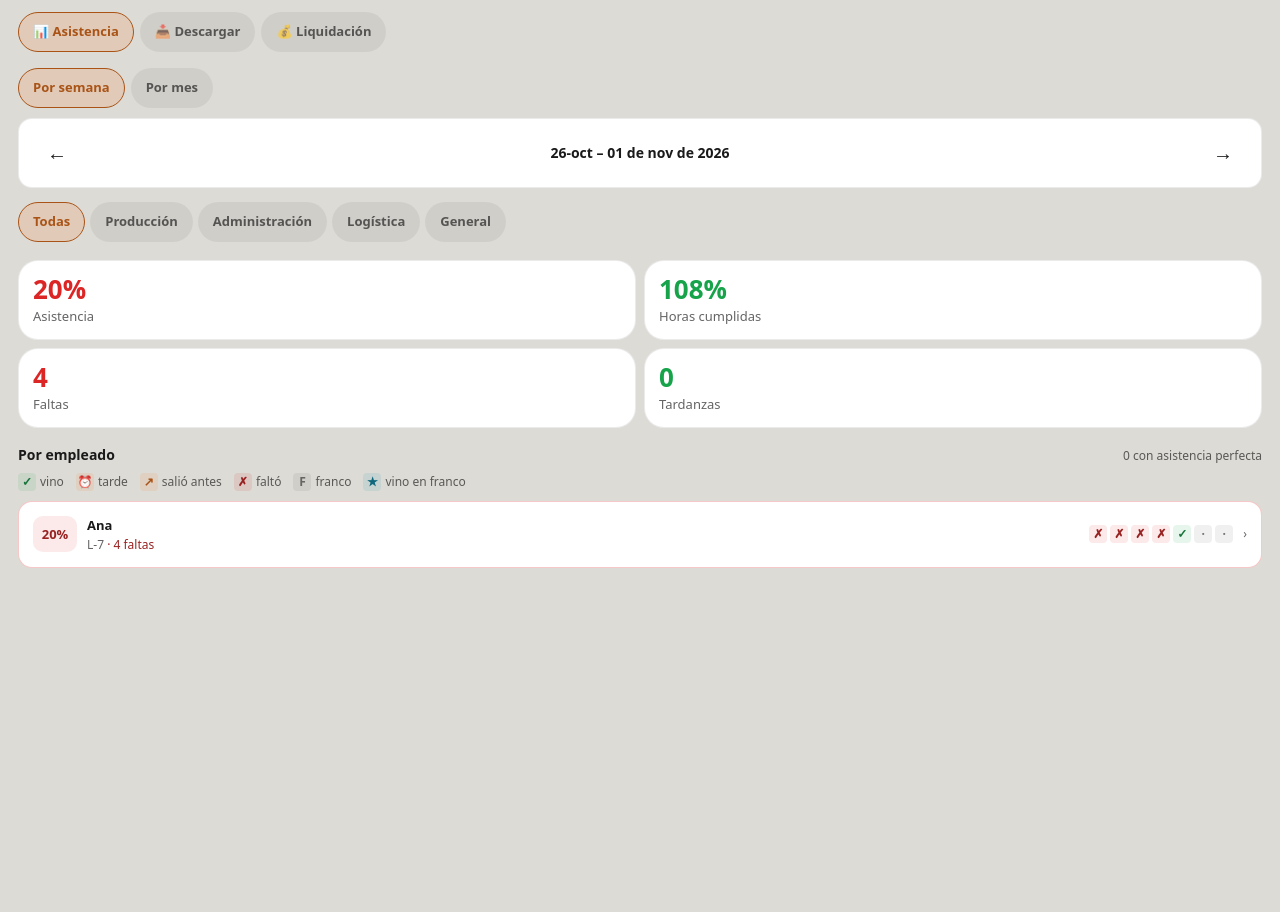
reportes — resumen con etiquetas completas y leyenda de los íconos de los días
expect the text "Asistencia" is shown: met, box [33,307,94,325]
expect the text "Horas cumplidas" is shown: met, box [659,307,761,325]
Click the button "20% Ana L-7 · 4 faltas ✗ ✗ ✗ ✗ ✓ · · ›" at (55, 534), box [19,502,1261,566]
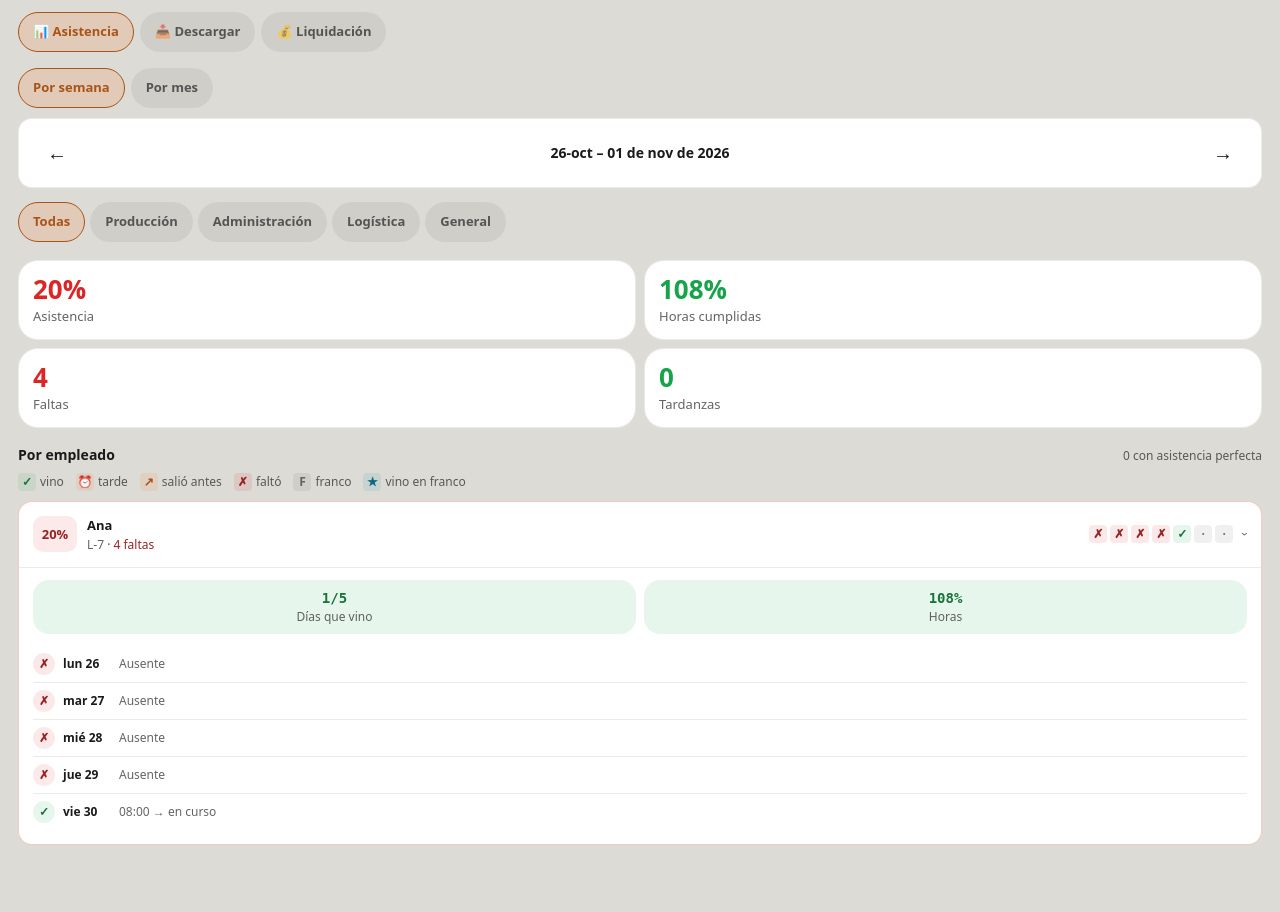
expect the text "Días que vino" is shown: met, box [296,608,372,624]
